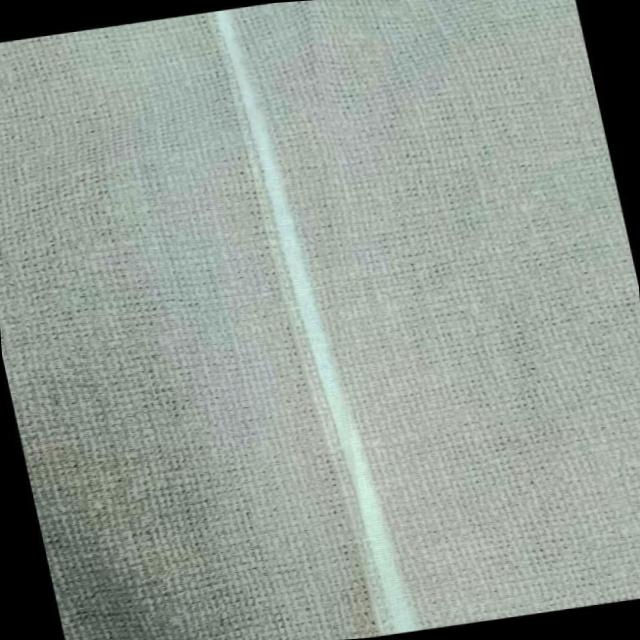selvet: (189, 0, 443, 640)
